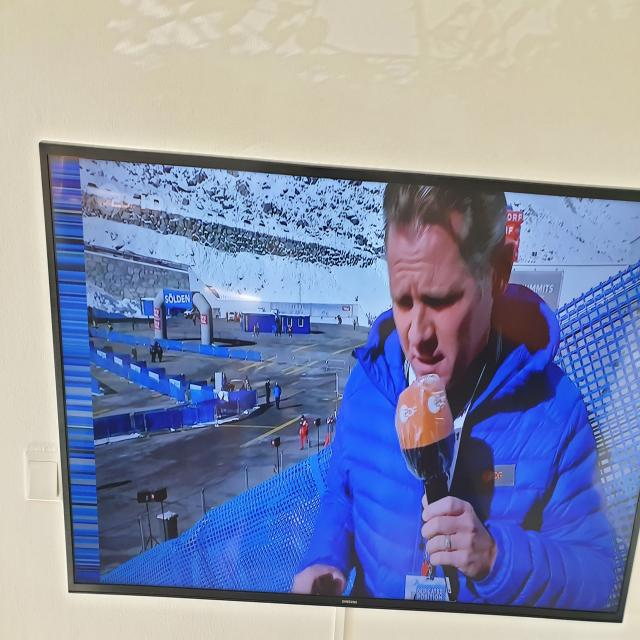electronics: (40, 143, 640, 620), (395, 373, 455, 505), (137, 488, 171, 552), (442, 565, 459, 601), (137, 488, 167, 503), (271, 436, 281, 474), (423, 554, 435, 582), (168, 517, 177, 538), (137, 491, 152, 503), (271, 437, 280, 448), (314, 418, 321, 428), (449, 542, 450, 544), (282, 465, 283, 467), (421, 572, 422, 573), (283, 465, 283, 465), (283, 466, 283, 470)
